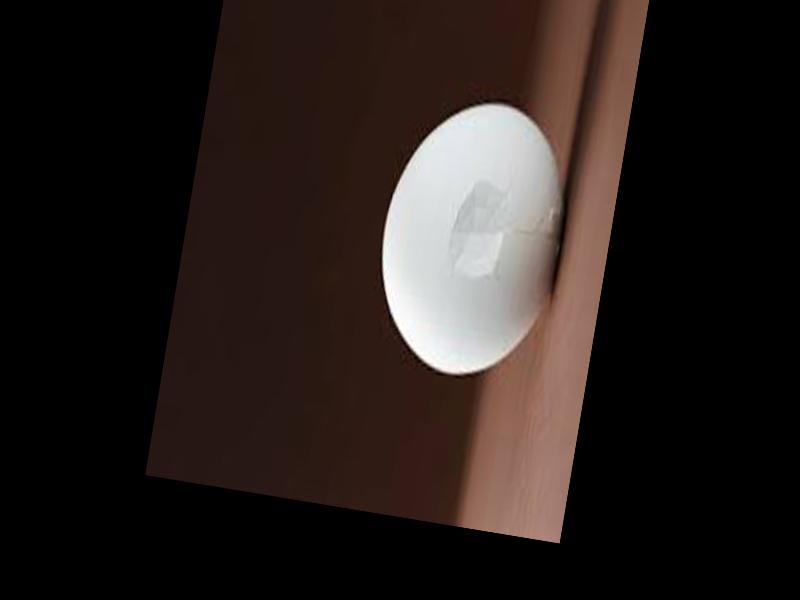Eggs: (362, 92, 581, 387)
